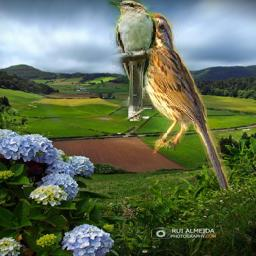Cuckoo: (108, 0, 157, 121)
Sparrow: (140, 12, 230, 190)
